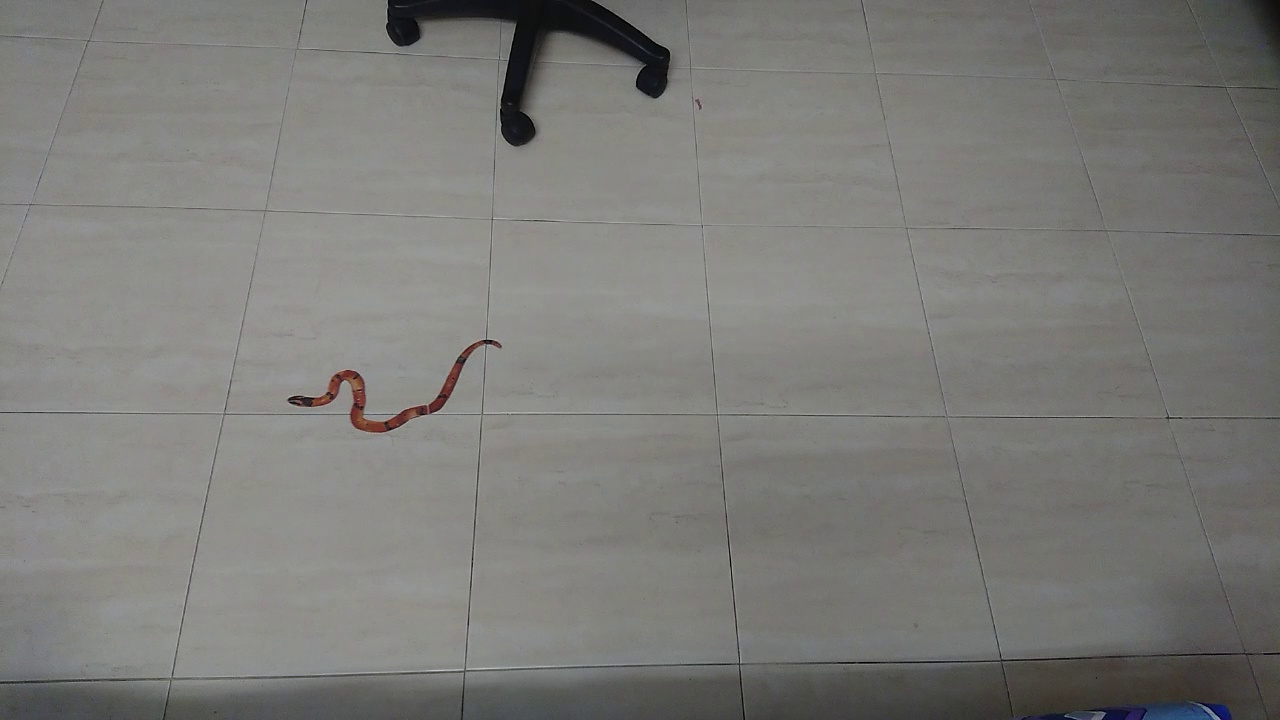snake: (269, 324, 529, 449)
